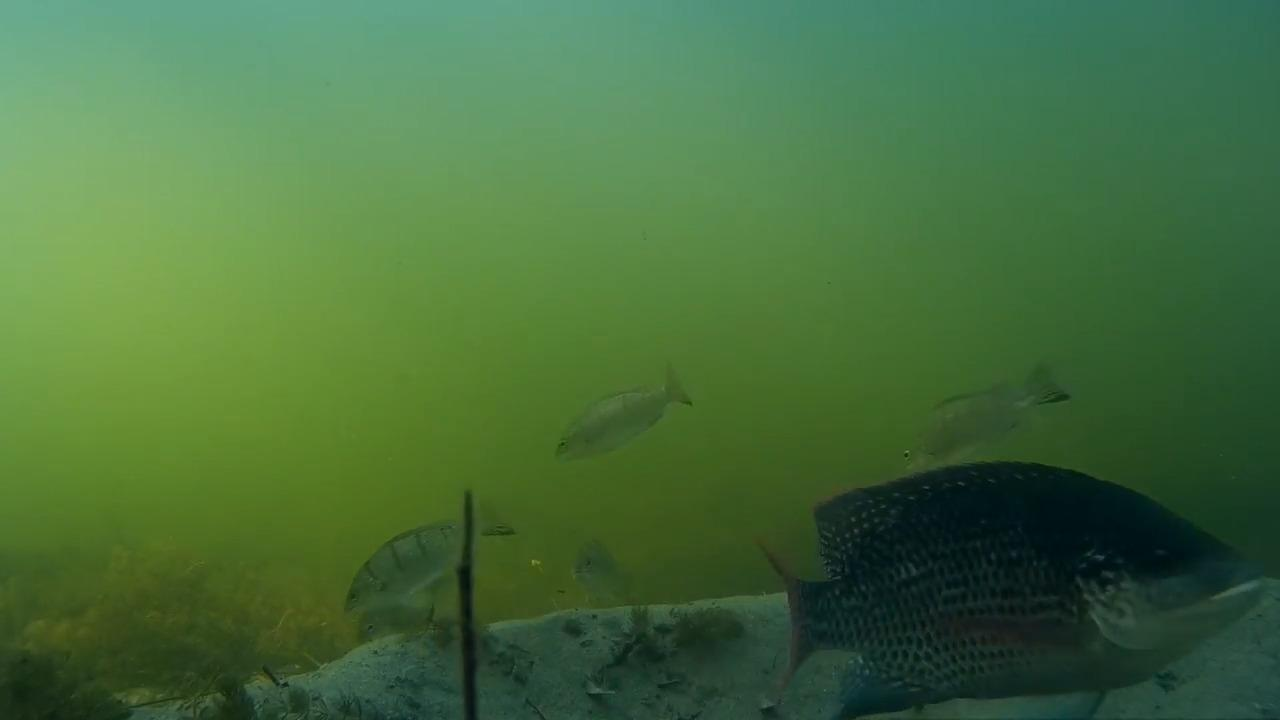Tilapia: (758, 470, 1275, 720), (892, 368, 1111, 476), (320, 500, 501, 618), (540, 356, 703, 478), (568, 530, 657, 616)
